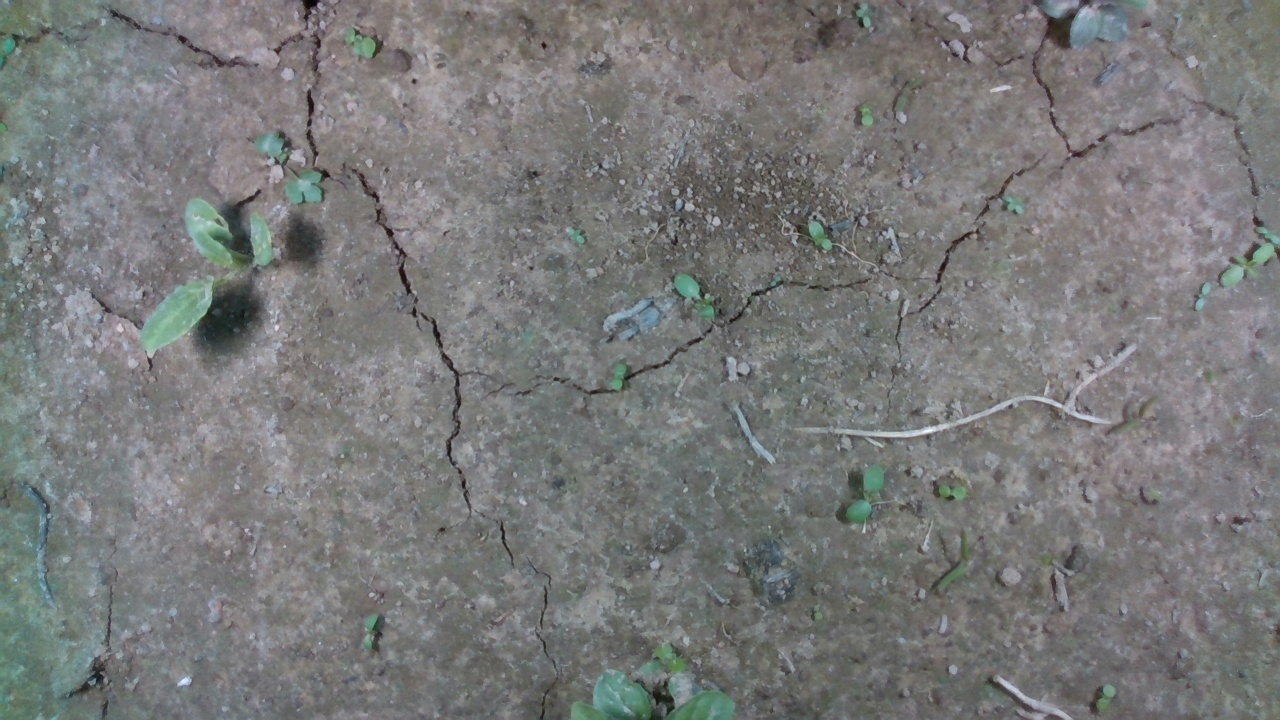weed: (665, 272, 723, 324), (802, 214, 849, 262), (856, 460, 890, 516), (856, 104, 898, 141), (359, 612, 395, 655), (602, 359, 635, 390)
